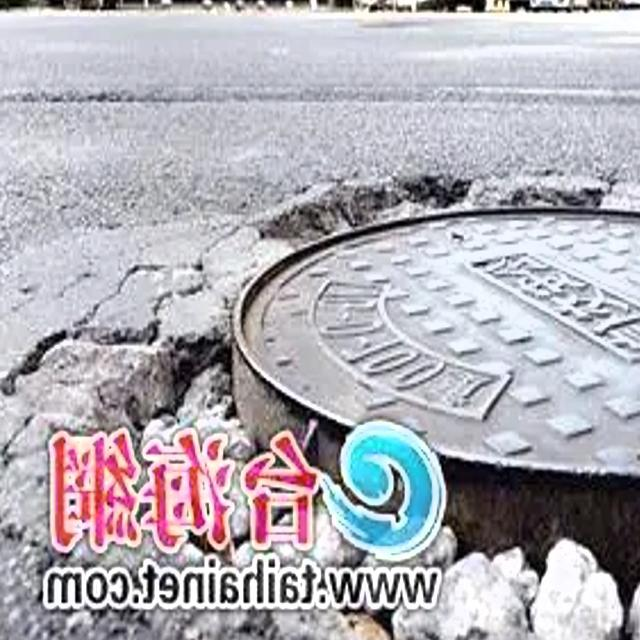circle: (0, 170, 640, 640)
